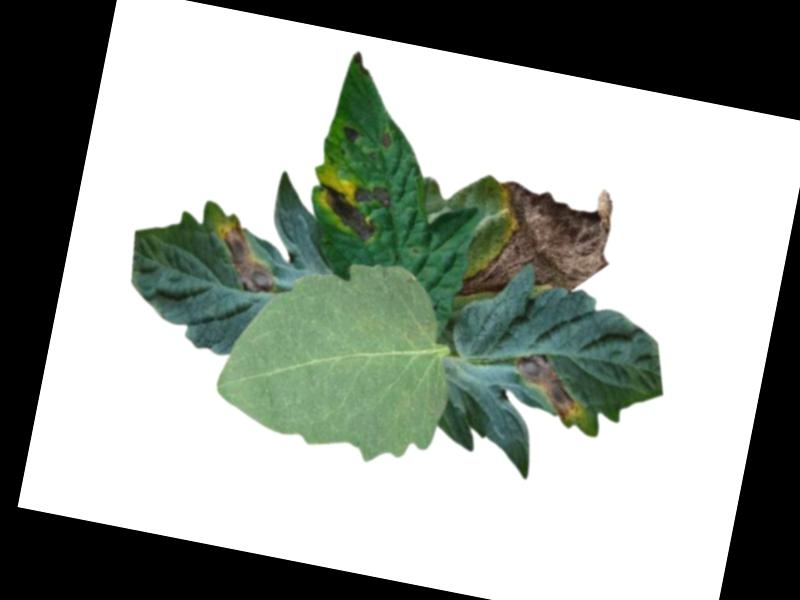Early_blight: (454, 164, 622, 322), (506, 349, 594, 429), (207, 217, 284, 296), (311, 174, 393, 247), (348, 51, 374, 81), (338, 123, 362, 148), (378, 132, 394, 149)
healthy: (206, 236, 473, 478)
